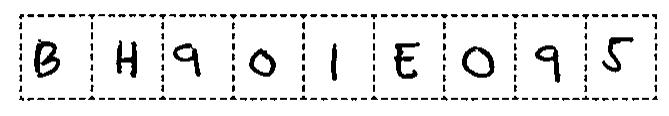0: (459, 42, 498, 84), (244, 40, 281, 84)
1: (316, 37, 350, 87)
5: (597, 32, 639, 78)
9: (530, 38, 570, 90), (169, 38, 207, 82)
B: (27, 36, 68, 83)
E: (390, 38, 426, 88)
H: (112, 32, 144, 86)
